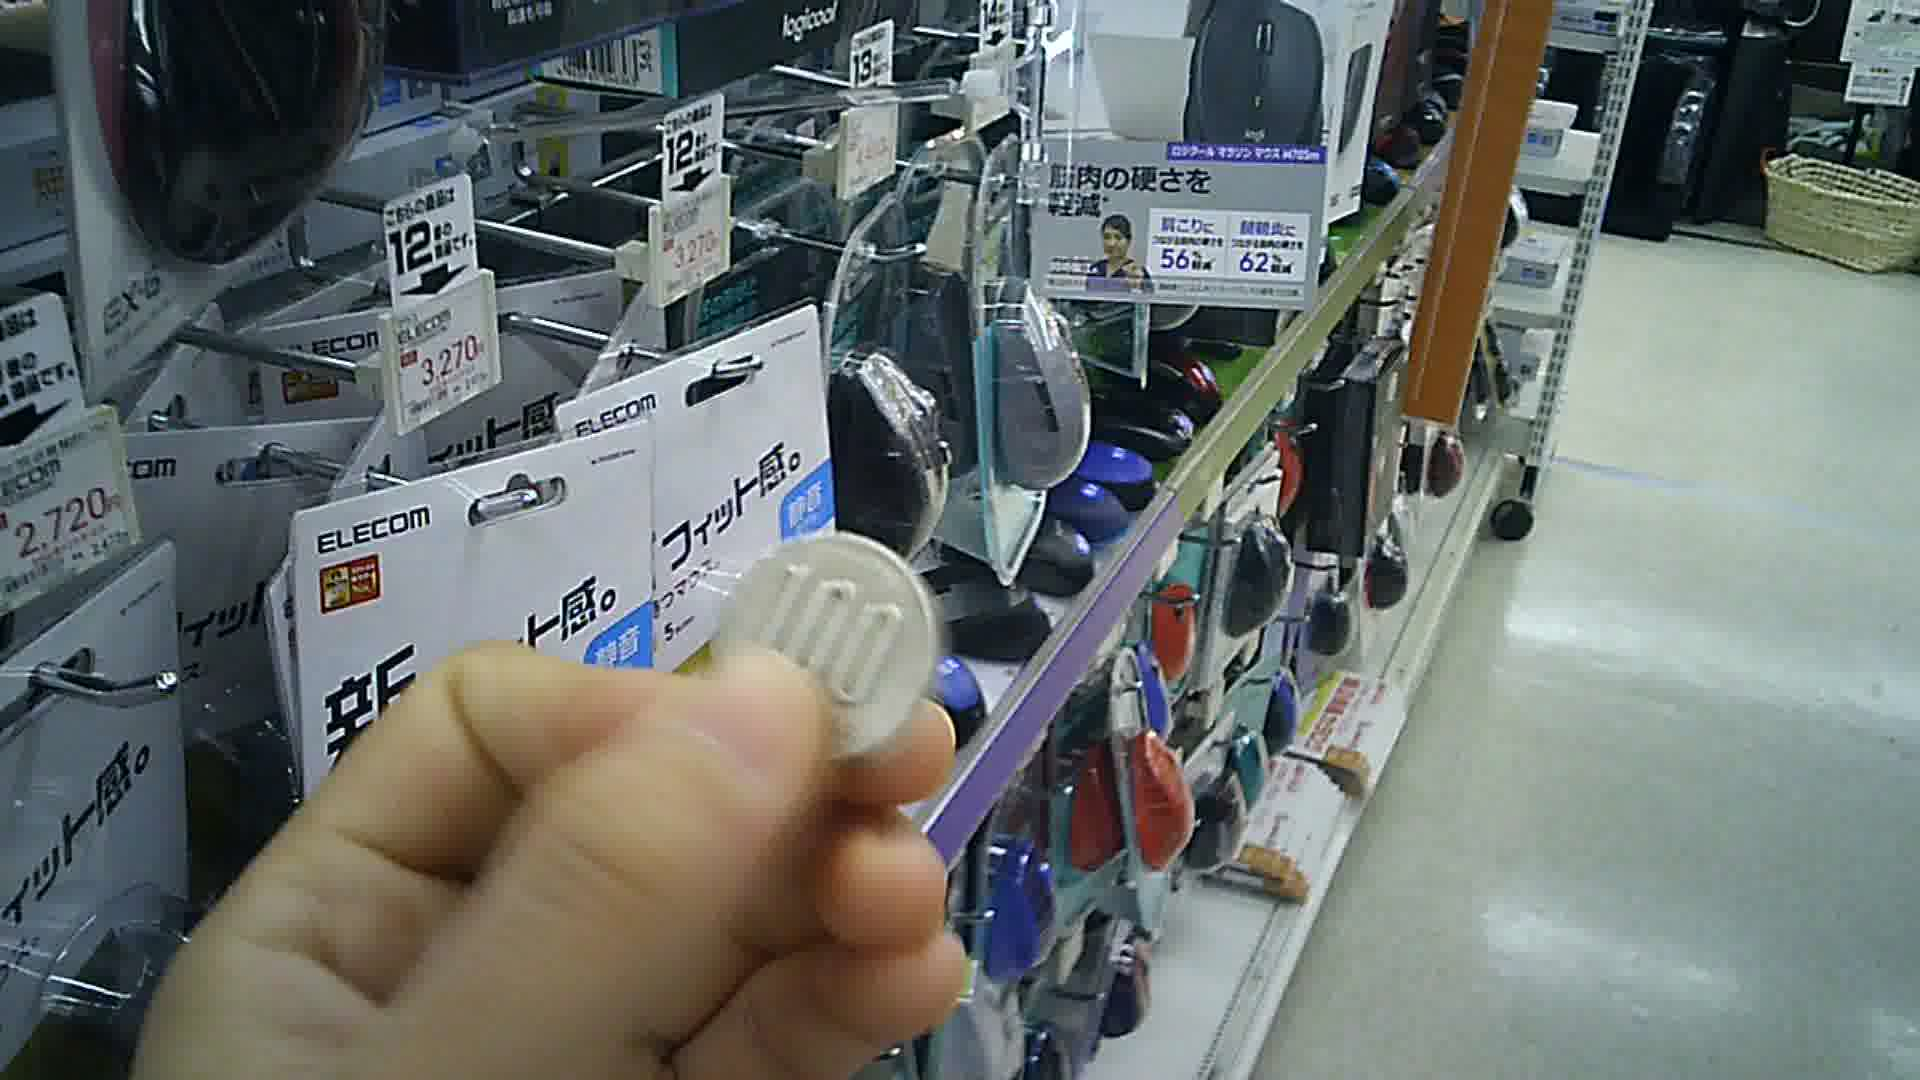100 Yen: (716, 534, 944, 761)
